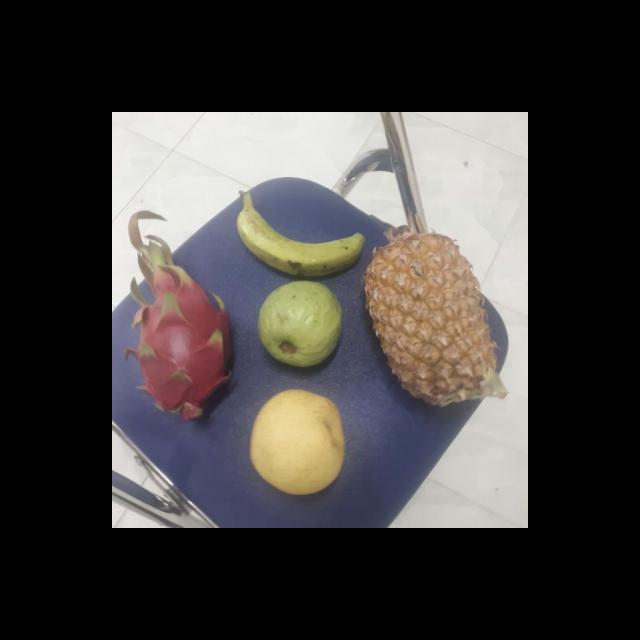banana: (239, 191, 367, 277)
guava: (258, 282, 346, 366)
pear: (246, 390, 354, 494)
pineapple: (368, 238, 497, 406)
pitaya: (132, 267, 240, 426)
